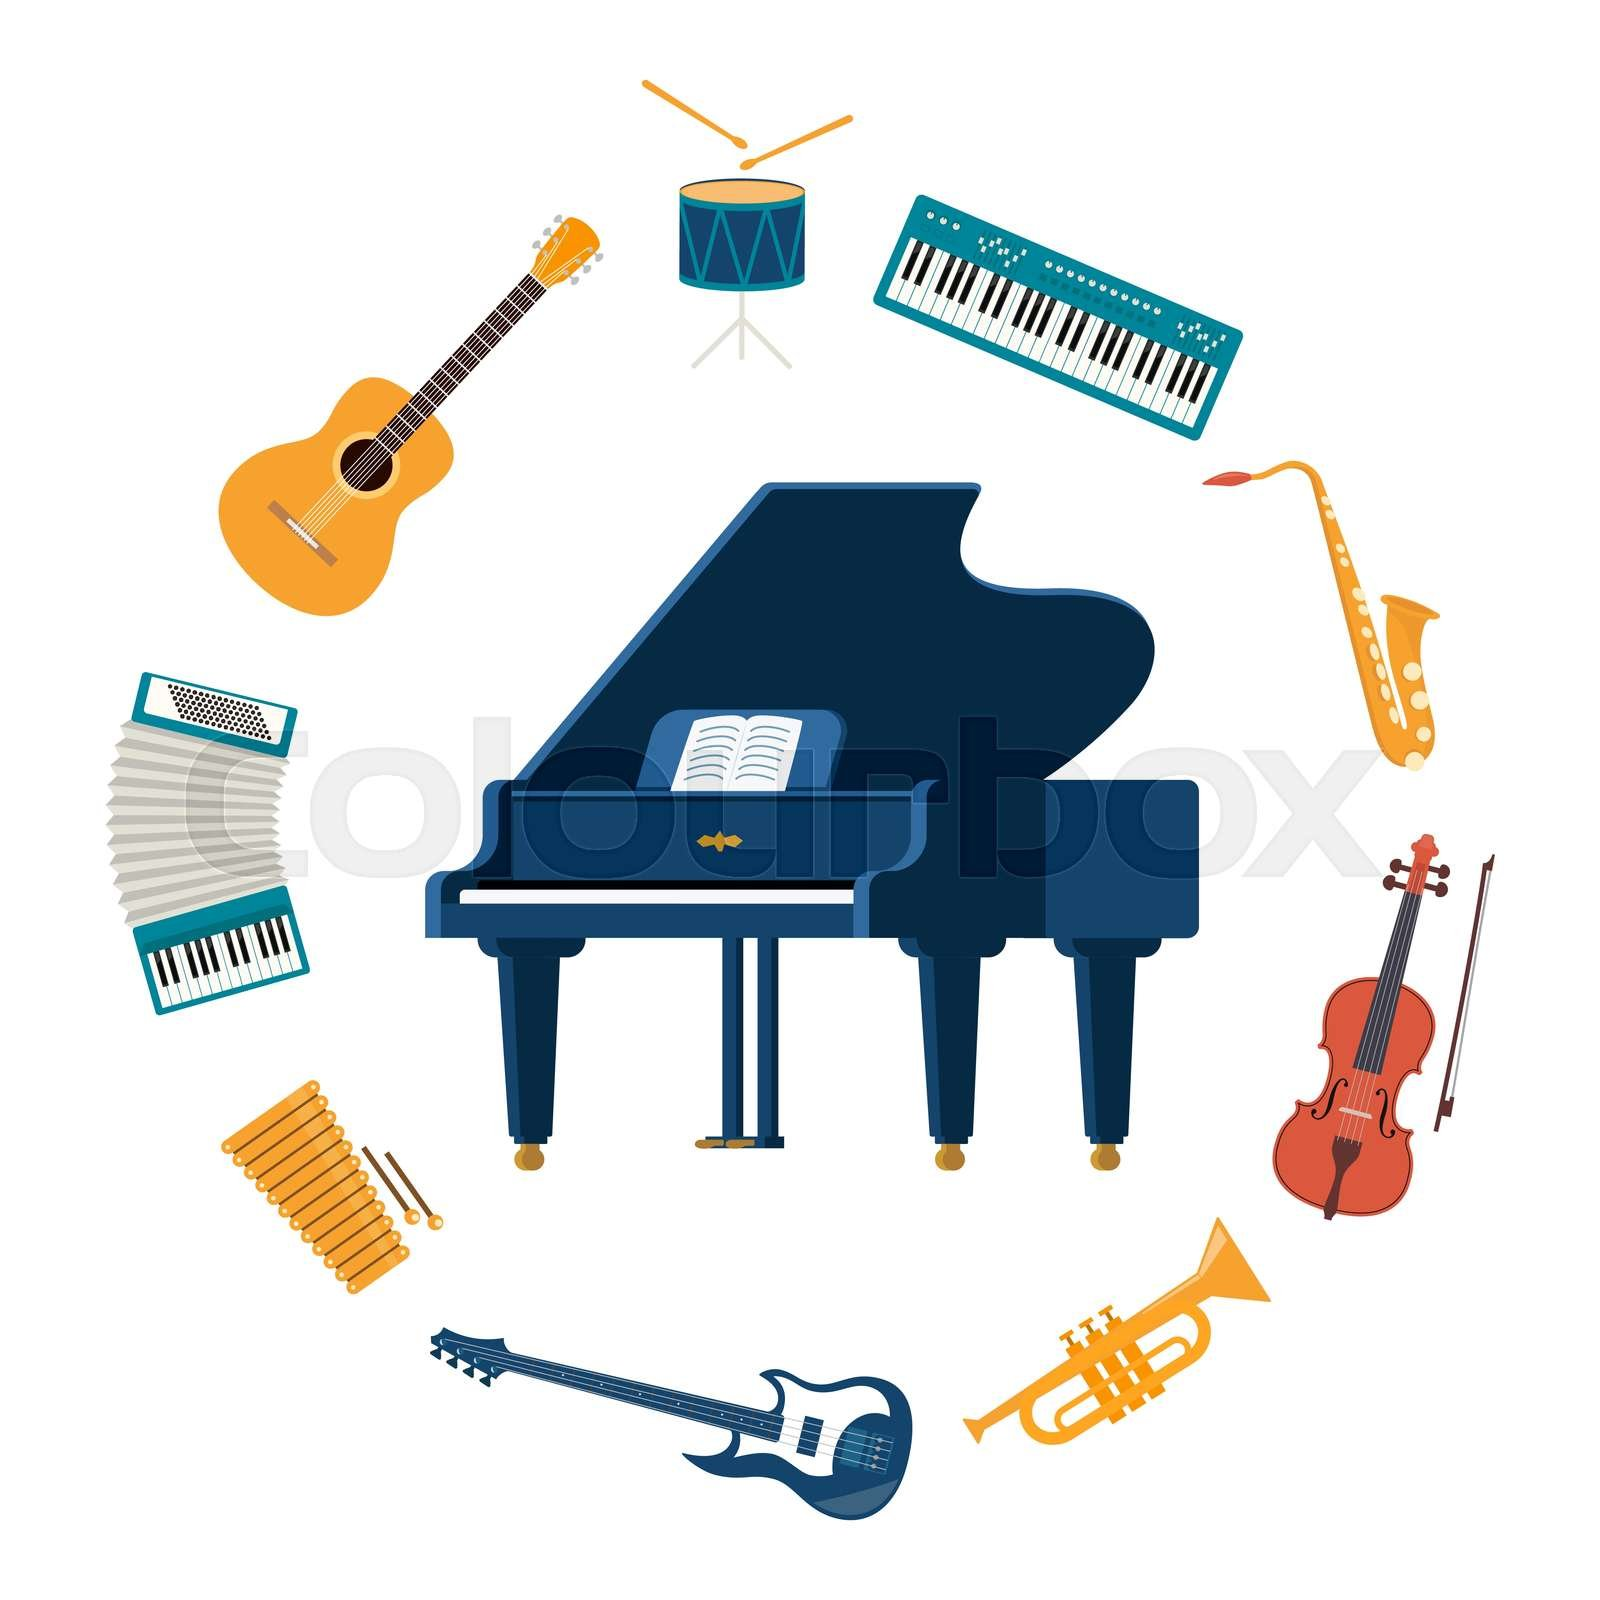Piano: (356, 486, 1289, 1209), (845, 163, 1326, 467)
Saxophone: (1187, 434, 1556, 838)
Violin: (1226, 807, 1534, 1307)
